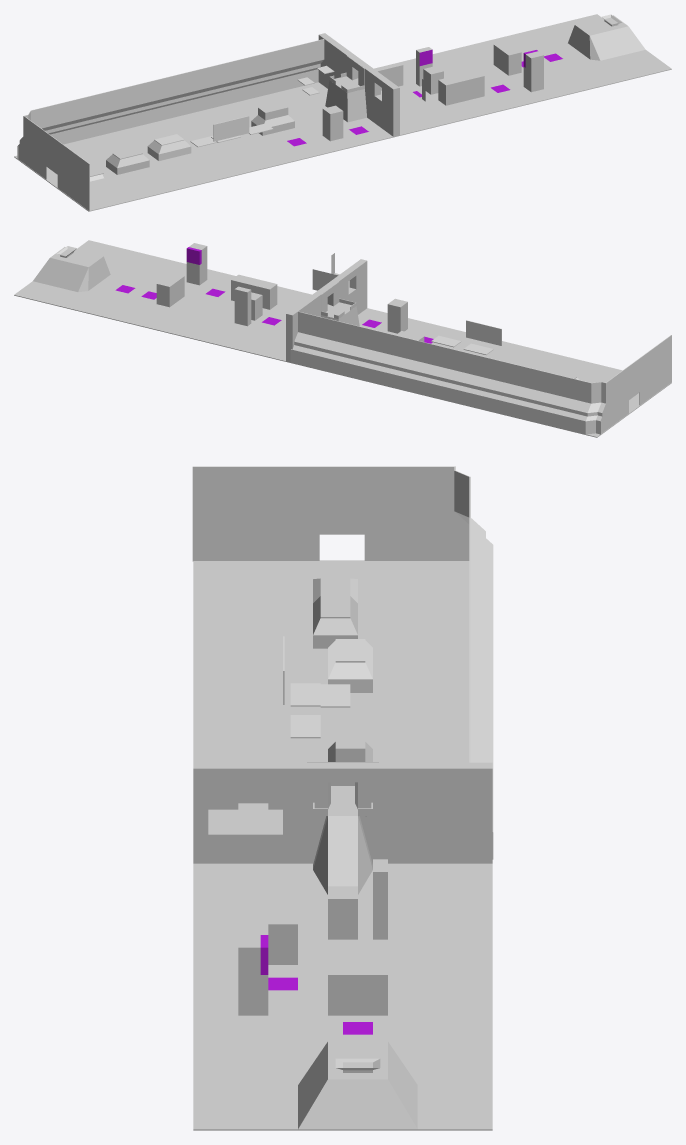
Rendered from proxy_level2_v2.fbx.
3 renders of one model, top to bottom at view 1: azimuth 30°, elevation 25°; view 2: azimuth 150°, elevation 25°; view 3: azimuth 270°, elevation 25°, orthographic. The views are drawn at different scales.
Visible parts, largest first — view 1: PL.008, WALL, PL.007, PL.005; view 2: PL.008, WALL, PL.005; view 3: PL.008, WALL, PL.007.
Boxes of the visible parts, left/top/right/bottom form: PL.008: left=14, top=14, right=671, bottom=211; WALL: left=17, top=39, right=324, bottom=211; PL.007: left=147, top=134, right=191, bottom=160; PL.005: left=213, top=116, right=249, bottom=141; PL.008: left=14, top=240, right=671, bottom=437; WALL: left=290, top=311, right=671, bottom=434; PL.005: left=466, top=320, right=501, bottom=345; PL.008: left=193, top=560, right=492, bottom=1130; WALL: left=192, top=466, right=493, bottom=859; PL.007: left=328, top=639, right=372, bottom=692.
Size of the model in its own units: 9005 by 710 by 2010.
